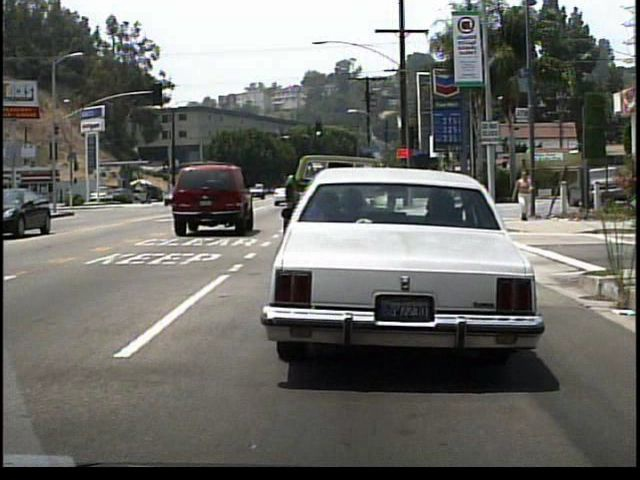person: (514, 170, 536, 225)
